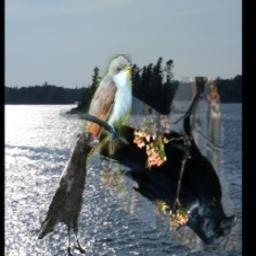Crow: (100, 77, 241, 250), (36, 133, 100, 256)
Cuckoo: (59, 54, 132, 212)
